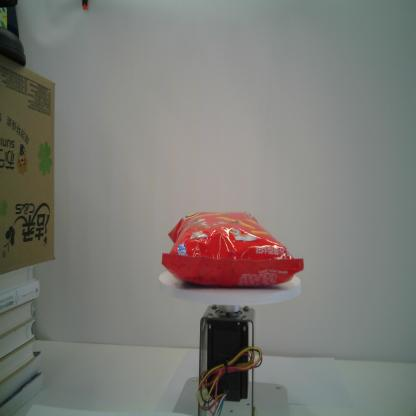Puffed Food: (162, 211, 304, 287)
